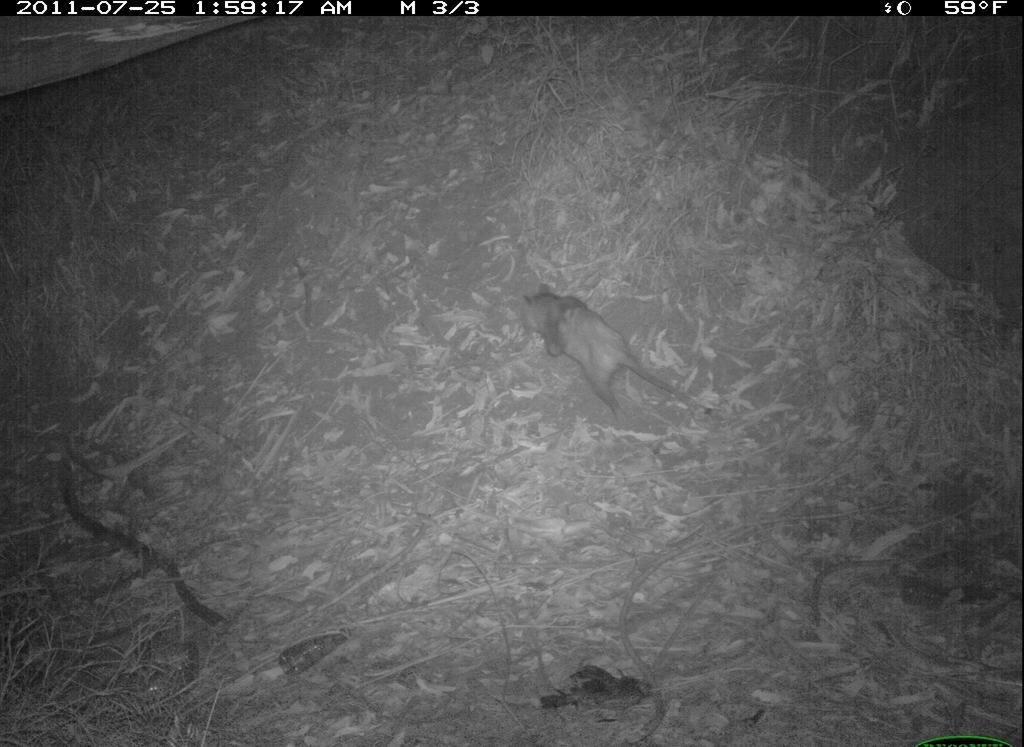opossum: (510, 271, 707, 431)
